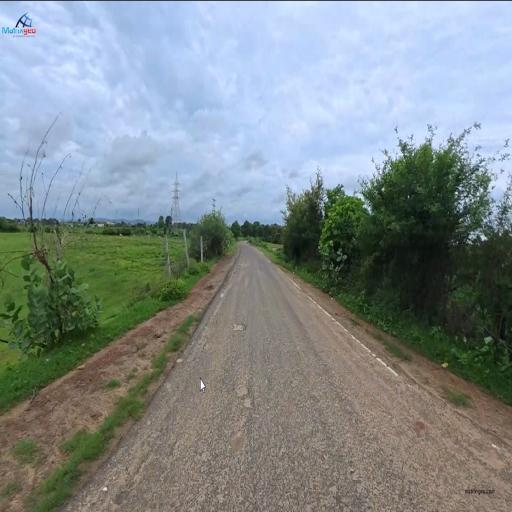pothole: (230, 377, 260, 421), (228, 312, 254, 344)
ravelling: (282, 386, 387, 488)
